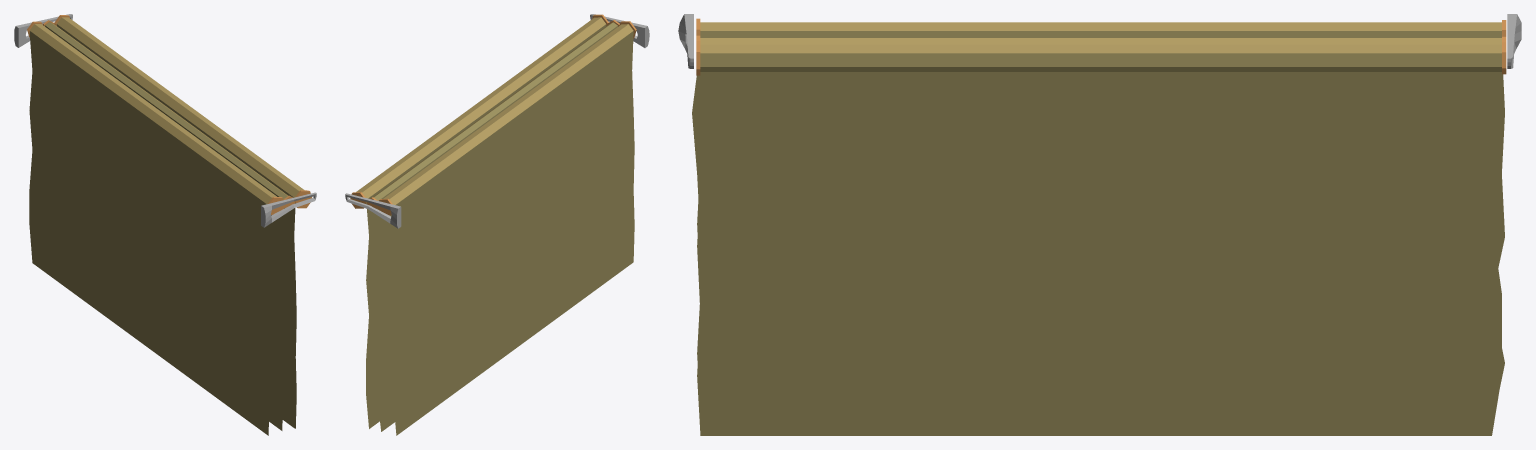
File: PlayerFeedbackCanvas.fbx
3 renders of one model, left to right at view 1: azimuth 30°, elevation 25°; view 2: azimuth 150°, elevation 25°; view 3: azimuth 270°, elevation 25°, orthographic. The views are drawn at different scales.
Parts seen in each view (by area): view 1: BackCanvas, FrontCanvasRoll, BackCanvasRoll, FrontCanvas, MiddleCanvas, MiddleCanvasRoll, CanvasHolder; view 2: BackCanvas, BackCanvasRoll, FrontCanvasRoll, MiddleCanvas, FrontCanvas, MiddleCanvasRoll, CanvasHolder; view 3: FrontCanvas, FrontCanvasRoll, BackCanvasRoll, MiddleCanvasRoll, MiddleCanvas, CanvasHolder.
Boxes of the visible parts, box(x1,y1,x2,y2) form: BackCanvas: box(29, 31, 269, 435); FrontCanvasRoll: box(54, 15, 311, 208); BackCanvasRoll: box(27, 21, 285, 214); FrontCanvas: box(56, 24, 296, 428); MiddleCanvas: box(267, 215, 286, 430); MiddleCanvasRoll: box(43, 20, 295, 207); CanvasHolder: box(14, 14, 316, 227); BackCanvas: box(393, 31, 634, 435); BackCanvasRoll: box(377, 21, 636, 215); FrontCanvasRoll: box(350, 14, 608, 208); MiddleCanvas: box(377, 215, 396, 431); FrontCanvas: box(366, 24, 606, 428); MiddleCanvasRoll: box(367, 20, 619, 208); CanvasHolder: box(345, 14, 649, 228); FrontCanvas: box(697, 72, 1501, 435); FrontCanvasRoll: box(696, 41, 1506, 75); BackCanvasRoll: box(696, 18, 1506, 37); MiddleCanvasRoll: box(696, 35, 1506, 44); MiddleCanvas: box(692, 72, 1504, 386); CanvasHolder: box(678, 14, 1521, 68).
Size of the model in its own units: 372 by 1551 by 2974.
